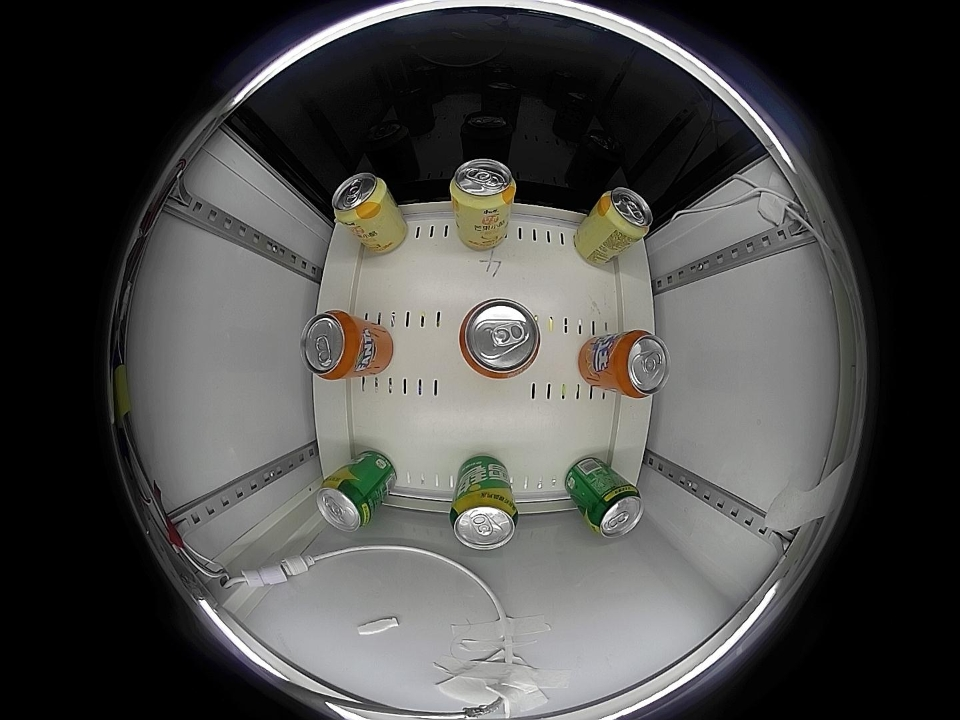fenda: (458, 298, 543, 380), (300, 310, 363, 380), (610, 330, 670, 399)
mangguoxiaolao: (449, 159, 517, 213), (332, 173, 390, 226), (597, 187, 653, 241)
xuebi2: (449, 490, 519, 551), (316, 475, 378, 533), (584, 482, 644, 539)
